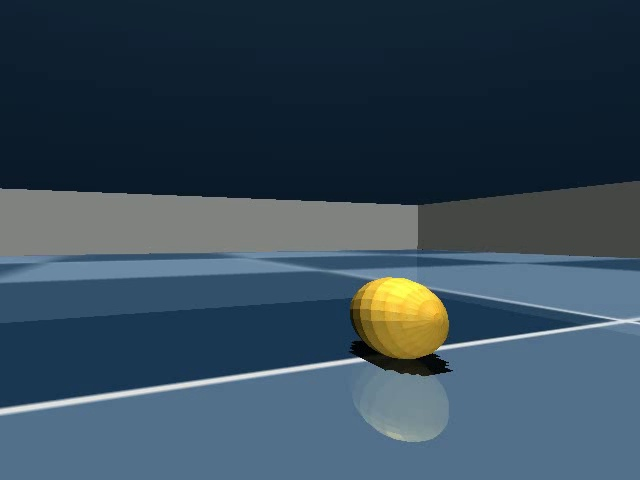lemon: (343, 272, 460, 371)
